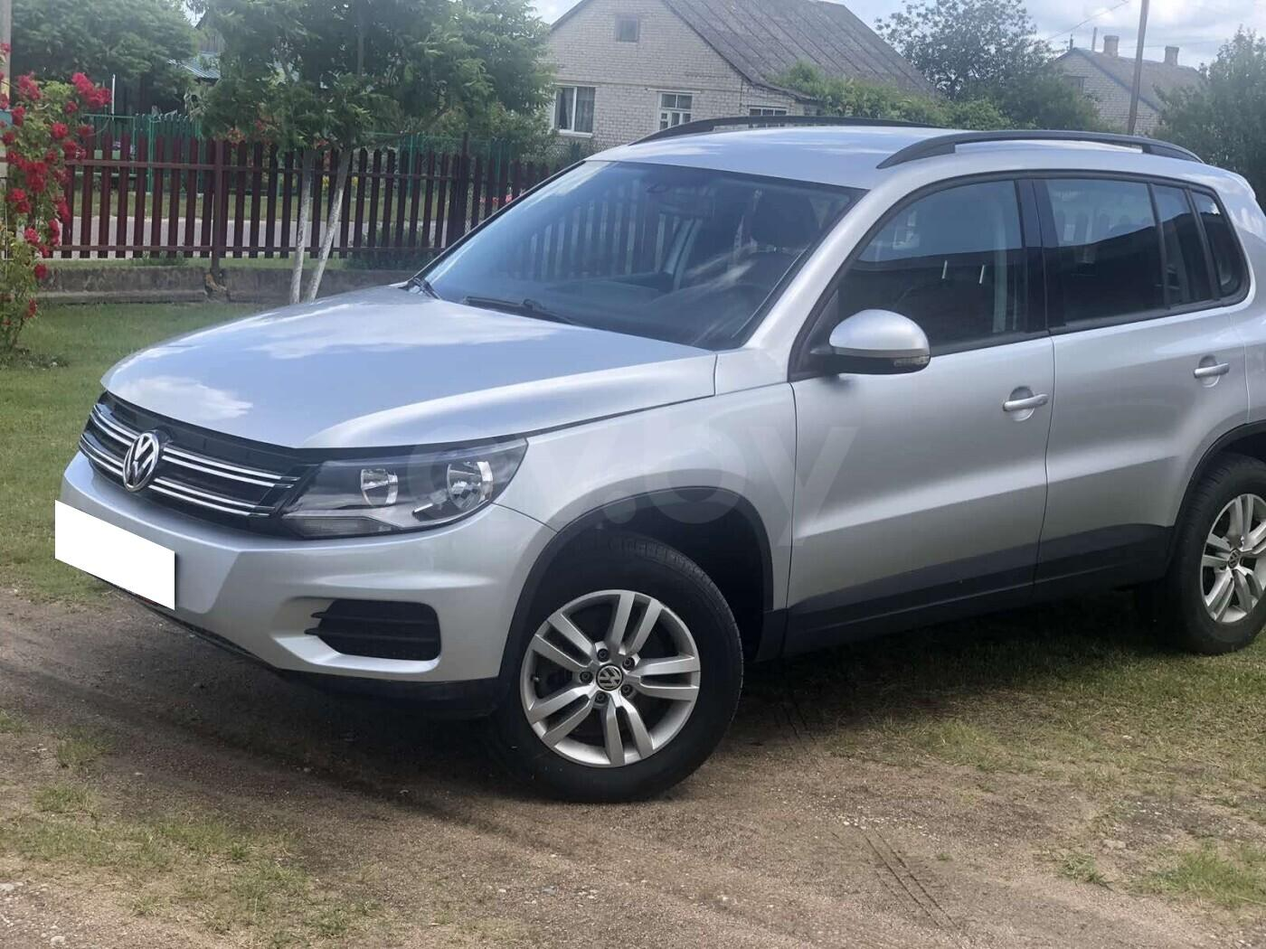Tiguan_2011-2018: (52, 116, 1266, 806)
